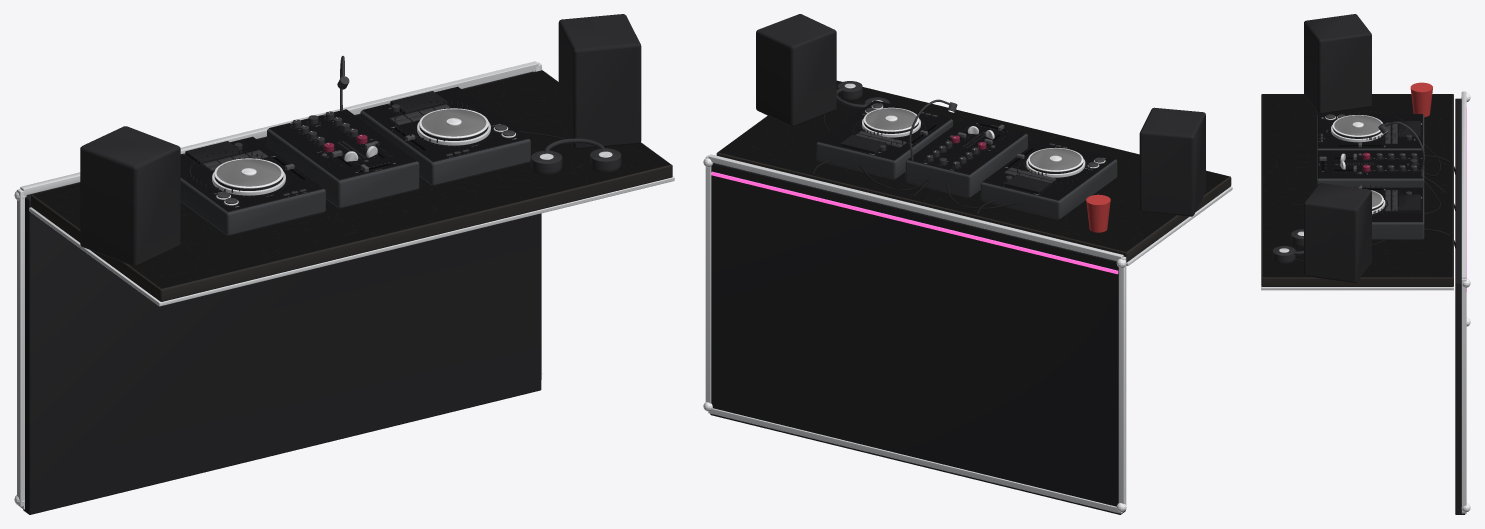
Rendered from gear.dae.
3 renders of one model, left to right at view 1: azimuth 30°, elevation 25°; view 2: azimuth 150°, elevation 25°; view 3: azimuth 270°, elevation 25°, orthographic. The views are drawn at different scales.
Parts seen in each view (by area): view 1: booth_facade, booth_top_print, monitor_L, monitor_R, booth_top, print_mixer, mixer_body, deck_A_body, deck_B_body, case_edge_top, print_B, case_edge (+6 smaller); view 2: booth_facade, booth_top_print, monitor_R, monitor_L, case_edge, booth_top, print_mixer, case_edge.001, deck_A_body, mixer_body, case_edge_v, deck_B_body (+7 smaller); view 3: booth_top_print, monitor_R, monitor_L, booth_facade, print_mixer, booth_top, print_A, case_edge_v.001, case_edge, mixer_body, deck_B_body, print_B (+7 smaller).
Part boxes in pixels (left/top/right/bottom): booth_facade: left=23, top=71, right=541, bottom=514; booth_top_print: left=33, top=70, right=670, bottom=288; monitor_L: left=80, top=126, right=180, bottom=266; monitor_R: left=558, top=14, right=641, bottom=149; booth_top: left=31, top=70, right=672, bottom=301; print_mixer: left=269, top=109, right=416, bottom=179; mixer_body: left=267, top=128, right=419, bottom=208; deck_A_body: left=180, top=178, right=325, bottom=235; deck_B_body: left=360, top=110, right=530, bottom=185; case_edge_top: left=29, top=176, right=674, bottom=306; print_B: left=363, top=86, right=528, bottom=161; case_edge: left=20, top=61, right=538, bottom=195; booth_facade: left=710, top=163, right=1125, bottom=514; booth_top_print: left=718, top=80, right=1229, bottom=251; monitor_R: left=756, top=14, right=836, bottom=126; monitor_L: left=1139, top=107, right=1205, bottom=216; case_edge: left=708, top=154, right=1123, bottom=260; booth_top: left=716, top=81, right=1231, bottom=262; print_mixer: left=908, top=118, right=1025, bottom=174; case_edge.001: left=708, top=408, right=1122, bottom=513; deck_A_body: left=980, top=159, right=1117, bottom=219; mixer_body: left=905, top=134, right=1027, bottom=197; case_edge_v: left=1118, top=256, right=1126, bottom=510; deck_B_body: left=816, top=119, right=952, bottom=179; booth_top_print: left=1262, top=94, right=1452, bottom=277; monitor_R: left=1304, top=183, right=1371, bottom=282; monitor_L: left=1304, top=14, right=1371, bottom=113; booth_facade: left=1455, top=98, right=1465, bottom=514; print_mixer: left=1318, top=150, right=1422, bottom=178; booth_top: left=1261, top=94, right=1453, bottom=286; print_A: left=1318, top=114, right=1422, bottom=147; case_edge_v.001: left=1461, top=278, right=1466, bottom=512; case_edge: left=1461, top=91, right=1466, bottom=278; mixer_body: left=1316, top=151, right=1424, bottom=188; deck_B_body: left=1372, top=188, right=1424, bottom=239; print_B: left=1356, top=187, right=1422, bottom=221.
Bounding box in the file's own units: 1.81 × 1.34 × 0.815.
34 materials, 4 textured.
